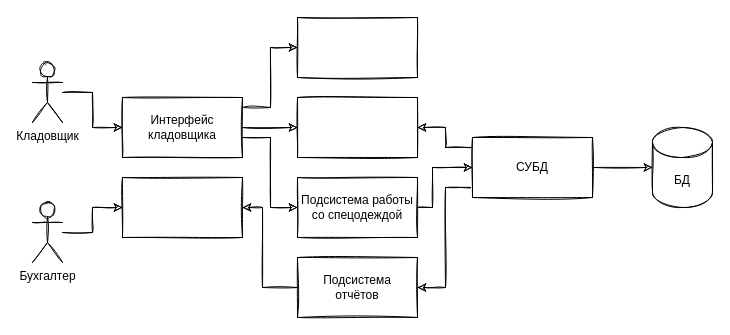
The diagram is 730 pixels wide and 335 high, and some of its shapes have lost their labels. The box of each missing label's shape, as (x1, y1, x2, y2) in pixels:
Интерфейс бухгалтера: (122, 176, 242, 238)
Подсистема синхронизации с отделом кадров: (296, 16, 418, 78)
Подсистема формирования нужд склада: (296, 96, 418, 158)
